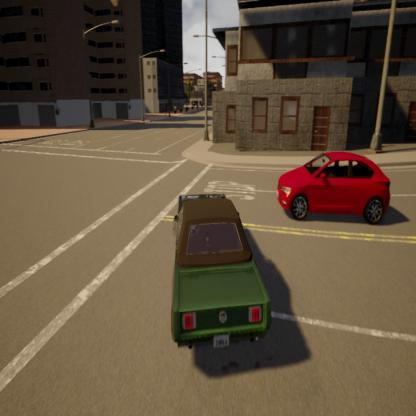Cars: (164, 178, 278, 359), (272, 139, 398, 233)
